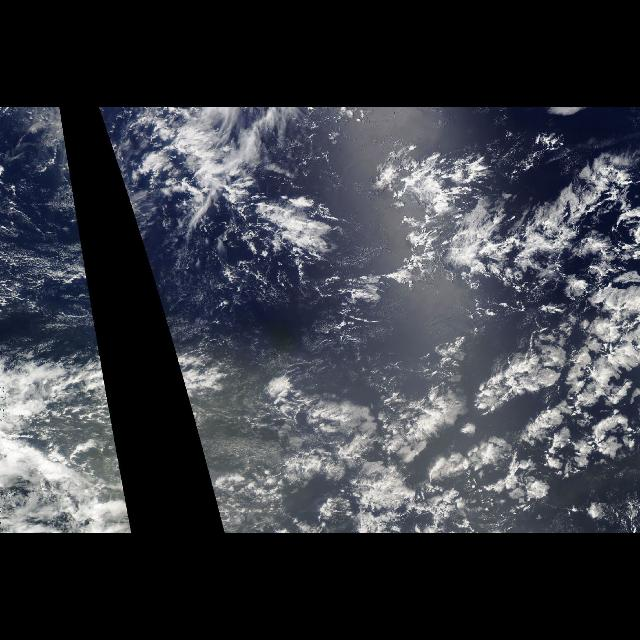Fish: (116, 115, 382, 282), (512, 268, 640, 496)
Flower: (529, 256, 637, 474)
Sugar: (2, 109, 102, 368), (155, 284, 411, 368)
